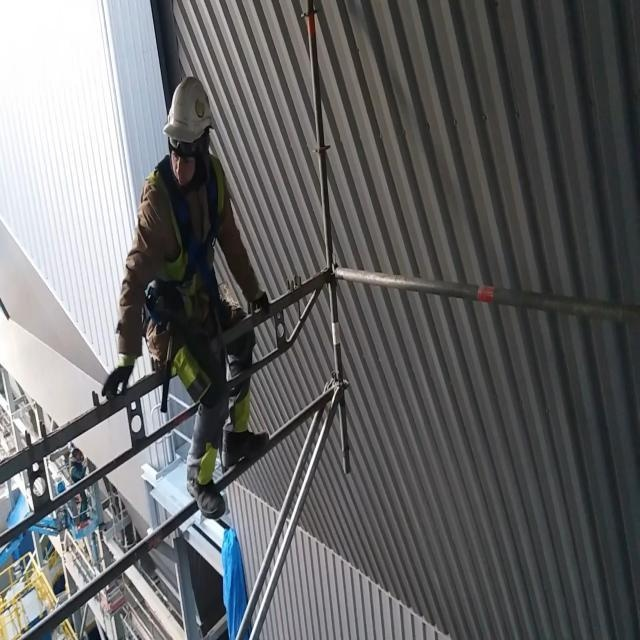Arnes_seguridad: (134, 137, 227, 369)
